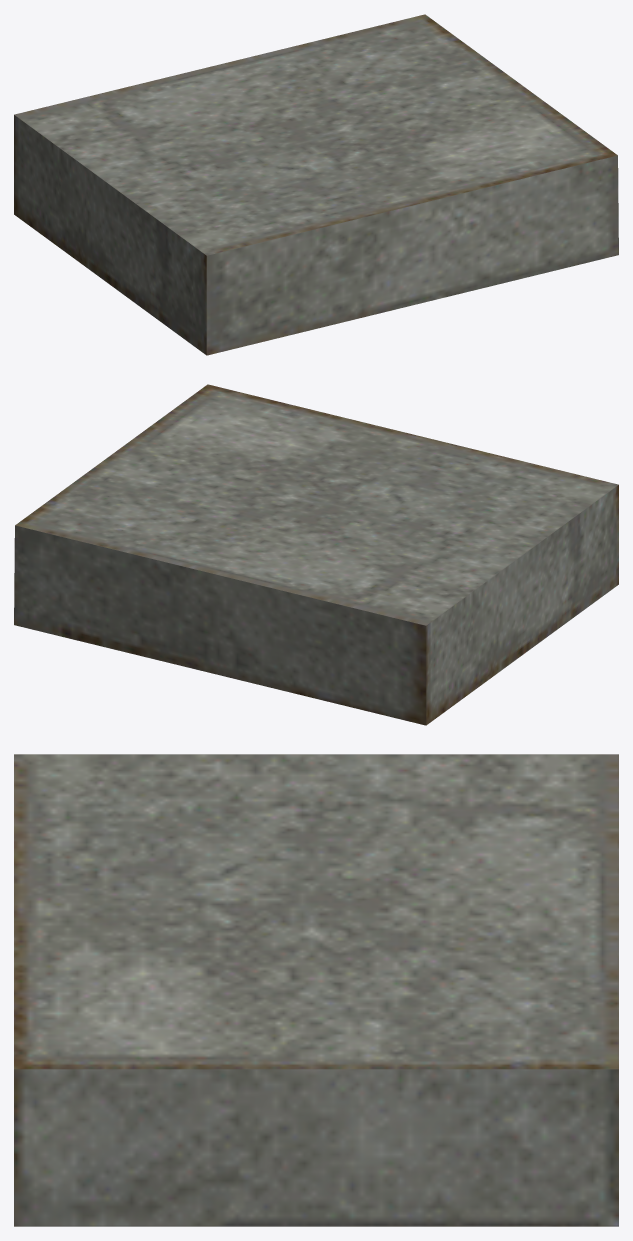
The model's file is plinth_top.fbx.
3 views of the same model, one above another, from view 1: azimuth 30°, elevation 25°; view 2: azimuth 150°, elevation 25°; view 3: azimuth 270°, elevation 25° (orthographic). The views are drawn at different scales.
Parts seen in each view (by area): view 1: plinth_top; view 2: plinth_top; view 3: plinth_top.
Part boxes in pixels (box(x1,y1,x2,y2)): plinth_top: box(14, 14, 618, 355); plinth_top: box(14, 384, 618, 725); plinth_top: box(14, 754, 618, 1226).
Size of the model in its own units: 43.2 by 10 by 35.
